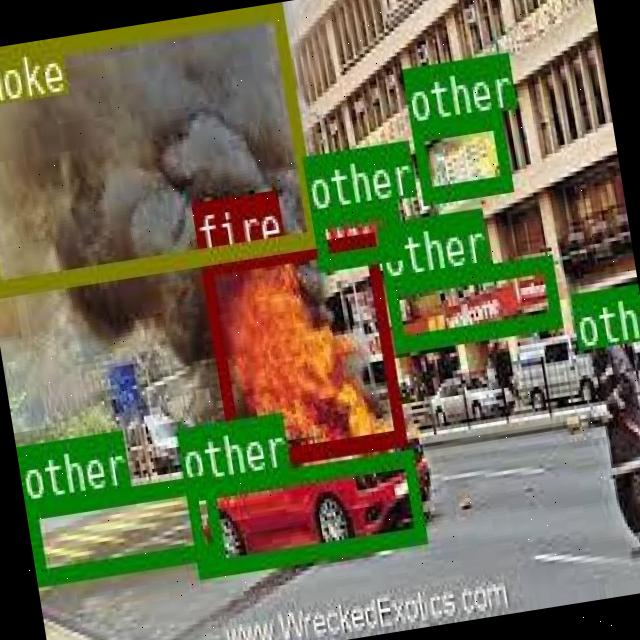fire: (200, 230, 404, 469)
smoke: (0, 2, 318, 296)
